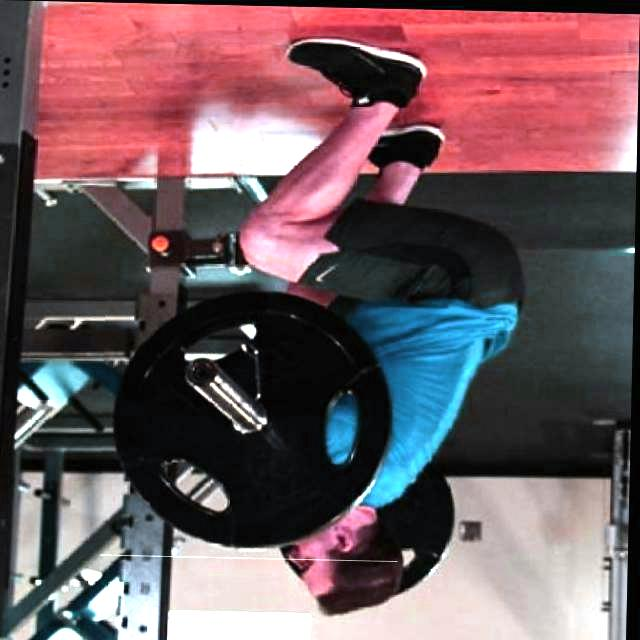barbell: (103, 278, 405, 560)
